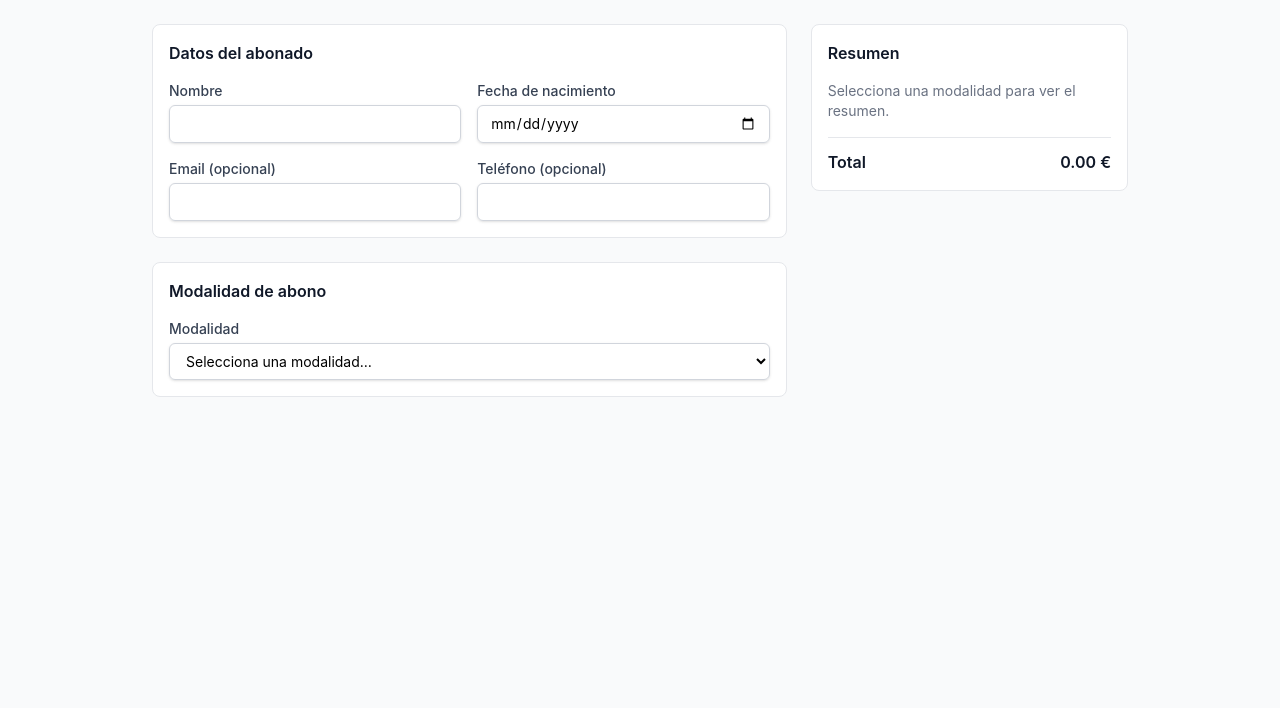
Test: QuoteForm (integración) › empezar una cotización nueva tras exportar oculta la confirmación anterior
Select "Golf Son Muntaner (SM) — 4400 €" in the dropdown labelled "Modalidad" at (469, 362), box left=169, top=343, right=770, bottom=380
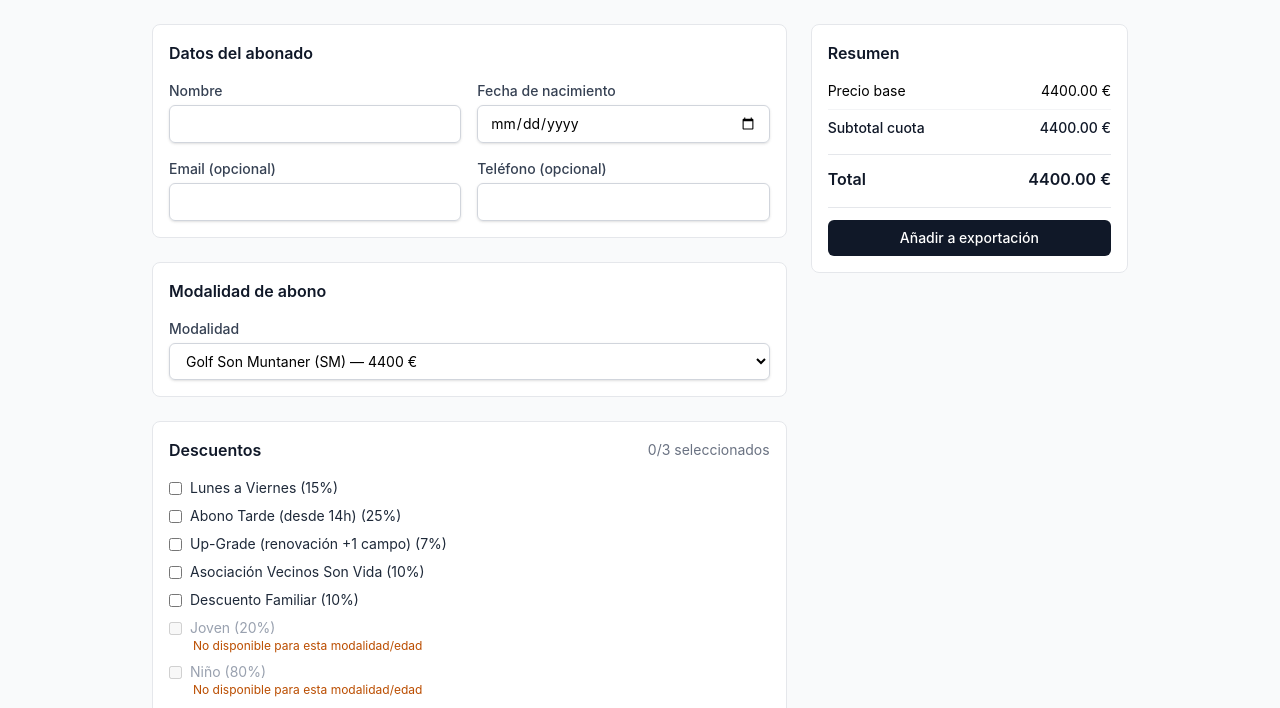
Click the button "Añadir a exportación" at (969, 238), box left=828, top=220, right=1111, bottom=256
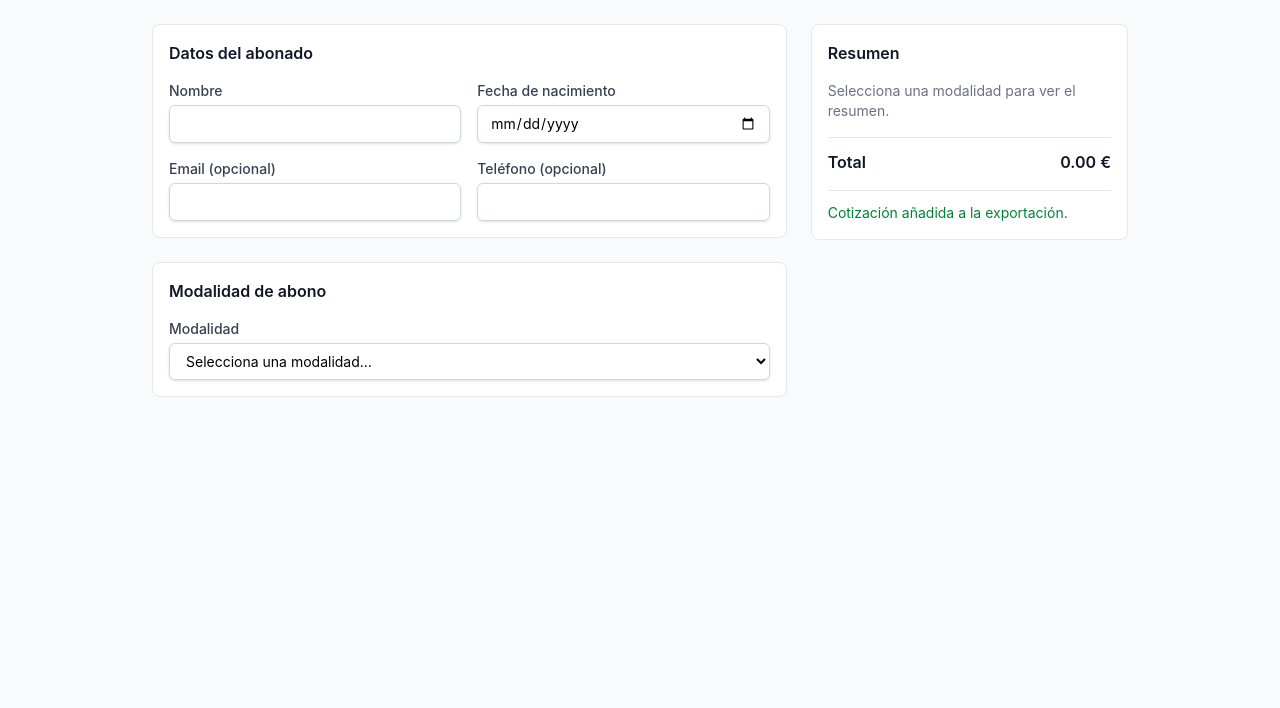
Now the message "Cotización añadida a la exportación." is shown, box left=828, top=204, right=1068, bottom=221
Select "Golf Son Quint (SQ) — 3250 €" in the dropdown labelled "Modalidad" at (469, 362), box left=169, top=343, right=770, bottom=380
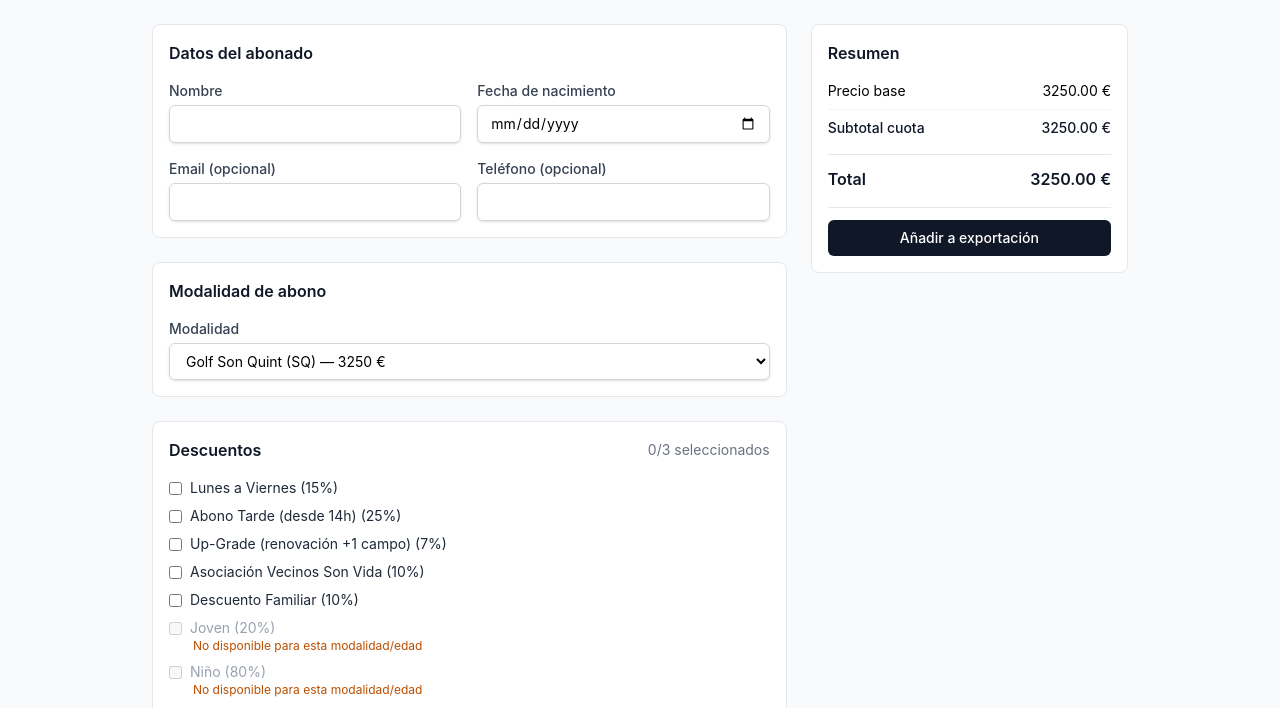
Now the message "Cotización añadida a la exportación." is gone
